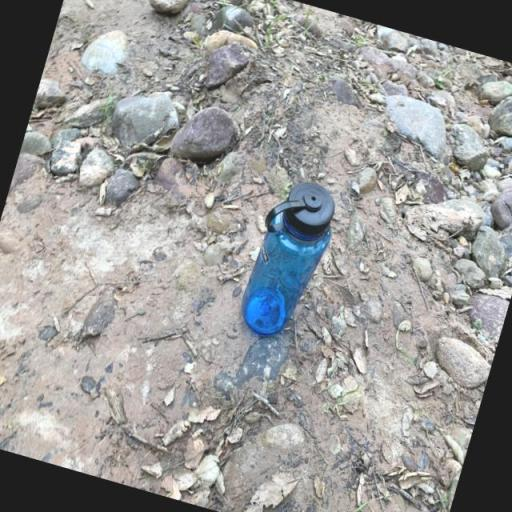bottle: (234, 174, 343, 346)
